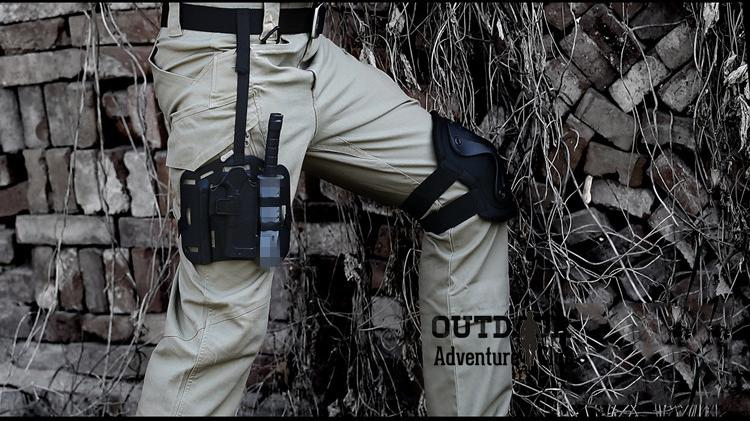pants: (145, 2, 509, 421)
